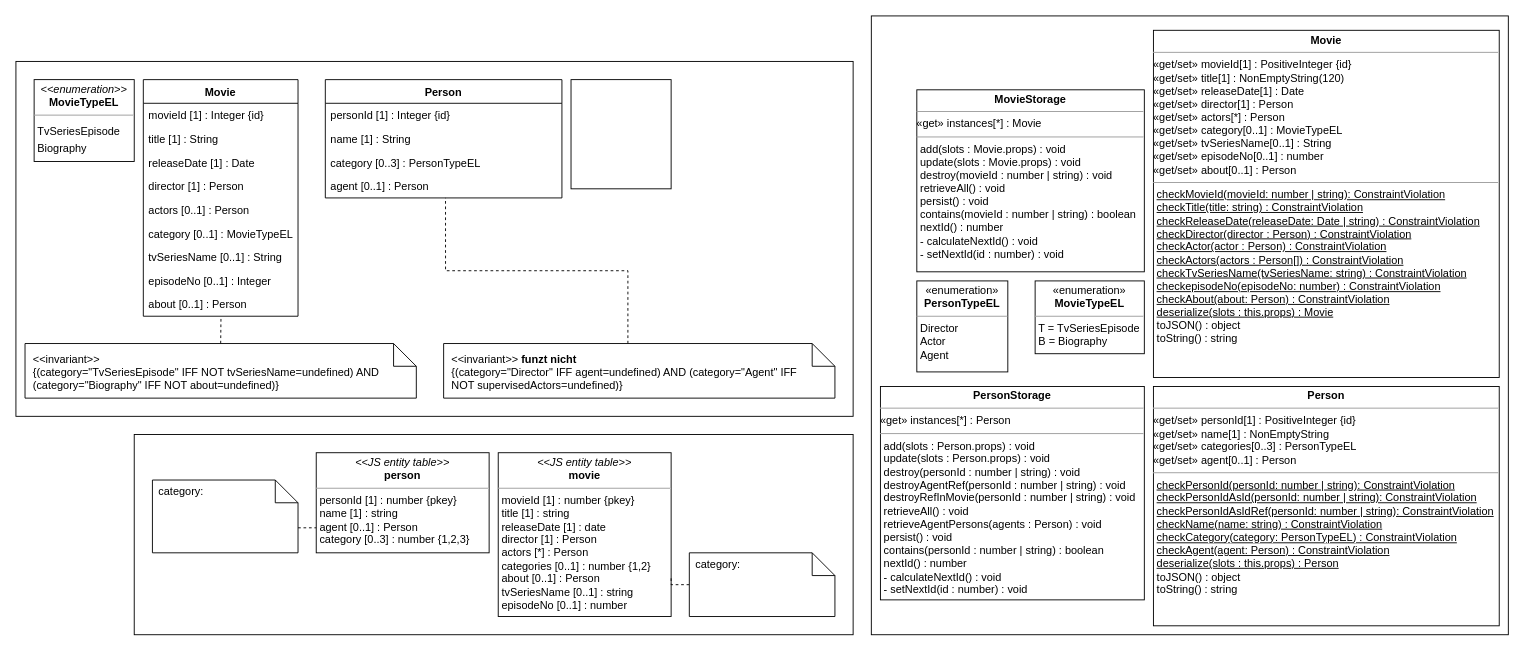
Image size: 1524x651. Some labels were removed from this diagram. Here are the shapes that lost their labels. From the top down, the centre of each, then its label:
(x=620, y=134): <<enumeration>> PersonTypeEL Director Actor Agent
(x=225, y=516): 1 = Actor 2 = Director 3 = Agent
(x=761, y=584): 1 = TvSeriesEpisode 2 = Biography
